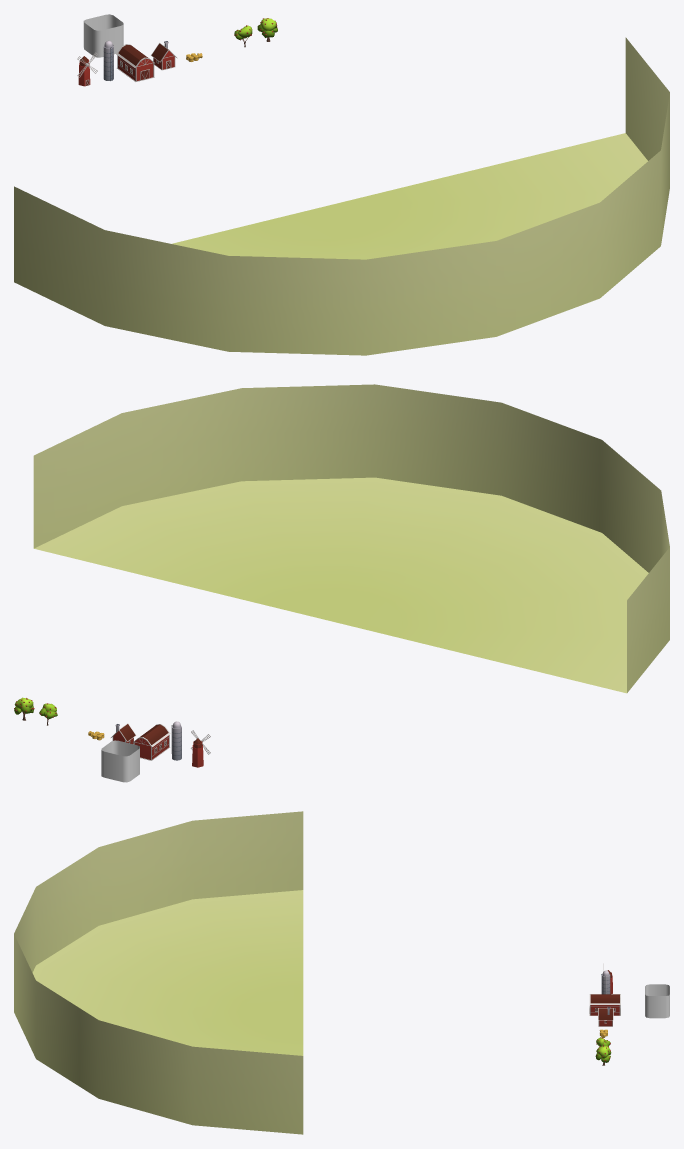
Rendered from assets_t4_a2.fbx.
3 renders of one model, top to bottom at view 1: azimuth 30°, elevation 25°; view 2: azimuth 150°, elevation 25°; view 3: azimuth 270°, elevation 25°, orthographic. The views are drawn at different scales.
Visible parts, largest first — view 1: ground_t4_era2, godray_t4_era2, Assets4; view 2: ground_t4_era2, godray_t4_era2, Assets4; view 3: ground_t4_era2, godray_t4_era2, Assets4.
Boxes of the visible parts, <box> form: ground_t4_era2: <box>14,37,669,355</box>; godray_t4_era2: <box>83,14,123,57</box>; Assets4: <box>116,44,154,81</box>; ground_t4_era2: <box>33,384,669,693</box>; godray_t4_era2: <box>101,740,139,782</box>; Assets4: <box>133,724,170,760</box>; ground_t4_era2: <box>14,811,303,1134</box>; godray_t4_era2: <box>645,984,669,1018</box>; Assets4: <box>589,994,620,1015</box>.
Size of the model in its own units: 162 by 24.28 by 183.
